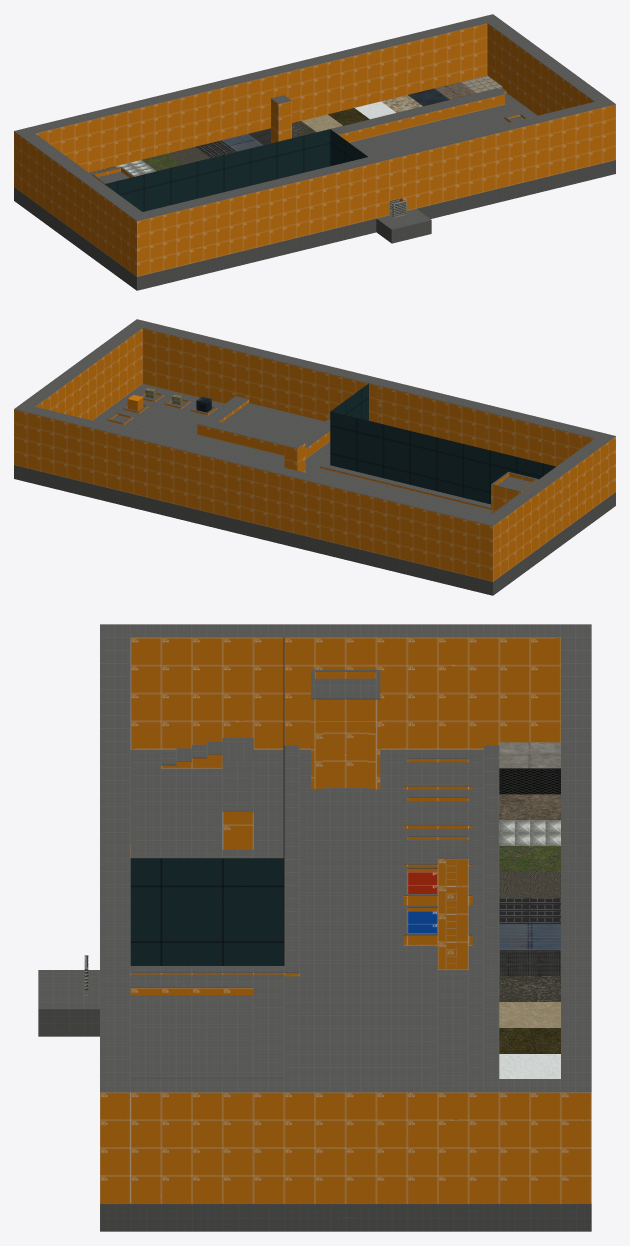
The picture shows the model from 3 angles, top to bottom: view 1: azimuth 30°, elevation 25°; view 2: azimuth 150°, elevation 25°; view 3: azimuth 270°, elevation 25°; orthographic projection. The views are drawn at different scales.
Visible parts, largest first — view 1: worldbrushes, entity_func_detail_1, entity_func_detail_19, entity_func_detail_17, entity_func_detail_14, entity_func_detail_8, entity_func_detail_9, entity_func_detail_13, entity_func_detail_15, entity_func_detail_7, entity_func_detail_16, entity_func_detail_18 (+1 smaller); view 2: worldbrushes, entity_func_detail_1; view 3: worldbrushes, entity_func_detail_1, entity_func_detail_23, entity_func_detail_3, entity_func_detail_4, entity_func_detail_5, entity_func_detail_6, entity_func_detail_7, entity_func_detail_8, entity_func_detail_9, entity_func_detail_10, entity_func_detail_11 (+4 smaller).
Boxes of the visible parts, bbox=[...] form: worldbrushes: bbox=[14, 14, 615, 290]; entity_func_detail_1: bbox=[104, 129, 367, 211]; entity_func_detail_19: bbox=[461, 75, 502, 93]; entity_func_detail_17: bbox=[408, 88, 449, 106]; entity_func_detail_14: bbox=[328, 108, 369, 125]; entity_func_detail_8: bbox=[168, 147, 209, 164]; entity_func_detail_9: bbox=[195, 140, 236, 158]; entity_func_detail_13: bbox=[301, 114, 342, 132]; entity_func_detail_15: bbox=[355, 101, 395, 119]; entity_func_detail_7: bbox=[142, 153, 183, 171]; entity_func_detail_16: bbox=[381, 95, 422, 112]; entity_func_detail_18: bbox=[434, 82, 475, 99]; worldbrushes: bbox=[14, 319, 615, 595]; entity_func_detail_1: bbox=[330, 383, 555, 504]; worldbrushes: bbox=[38, 624, 591, 1231]; entity_func_detail_1: bbox=[130, 638, 284, 965]; entity_func_detail_23: bbox=[322, 722, 368, 787]; entity_func_detail_3: bbox=[499, 742, 560, 768]; entity_func_detail_4: bbox=[499, 768, 560, 794]; entity_func_detail_5: bbox=[499, 794, 560, 819]; entity_func_detail_6: bbox=[499, 820, 560, 845]; entity_func_detail_7: bbox=[499, 846, 560, 871]; entity_func_detail_8: bbox=[499, 872, 560, 897]; entity_func_detail_9: bbox=[499, 898, 560, 923]; entity_func_detail_10: bbox=[499, 924, 560, 949]; entity_func_detail_11: bbox=[499, 950, 560, 975].
Bounding box in the file's own units: 2304 × 321 × 1152.
Materials: 31 (31 with a texture image).
